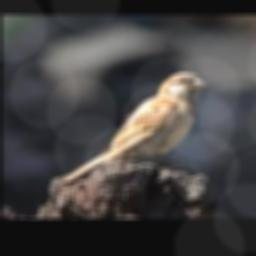Sparrow: (61, 72, 207, 184)
